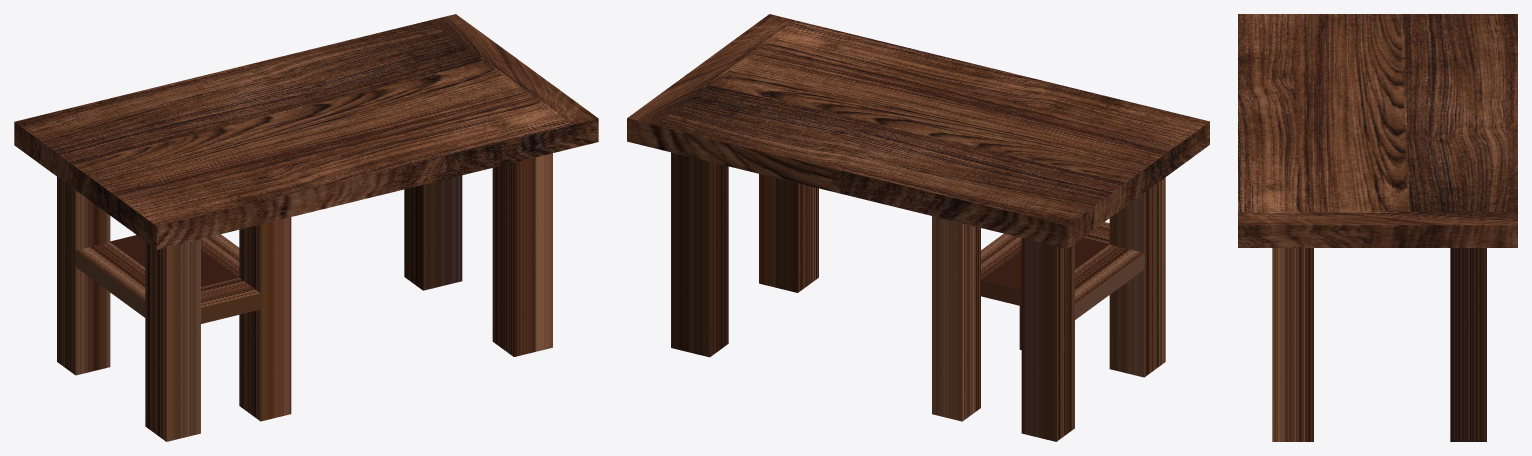
File: стол.fbx
3 renders of one model, left to right at view 1: azimuth 30°, elevation 25°; view 2: azimuth 150°, elevation 25°; view 3: azimuth 270°, elevation 25°, orthographic. The views are drawn at different scales.
Parts seen in each view (by area): view 1: Cube; view 2: Cube; view 3: Cube.
Boxes of the visible parts, x1,y1,x2,y2 form: Cube: [14, 14, 598, 441]; Cube: [627, 14, 1209, 441]; Cube: [1238, 14, 1517, 441].
Bounding box in the file's own units: 972 × 500 × 544.
